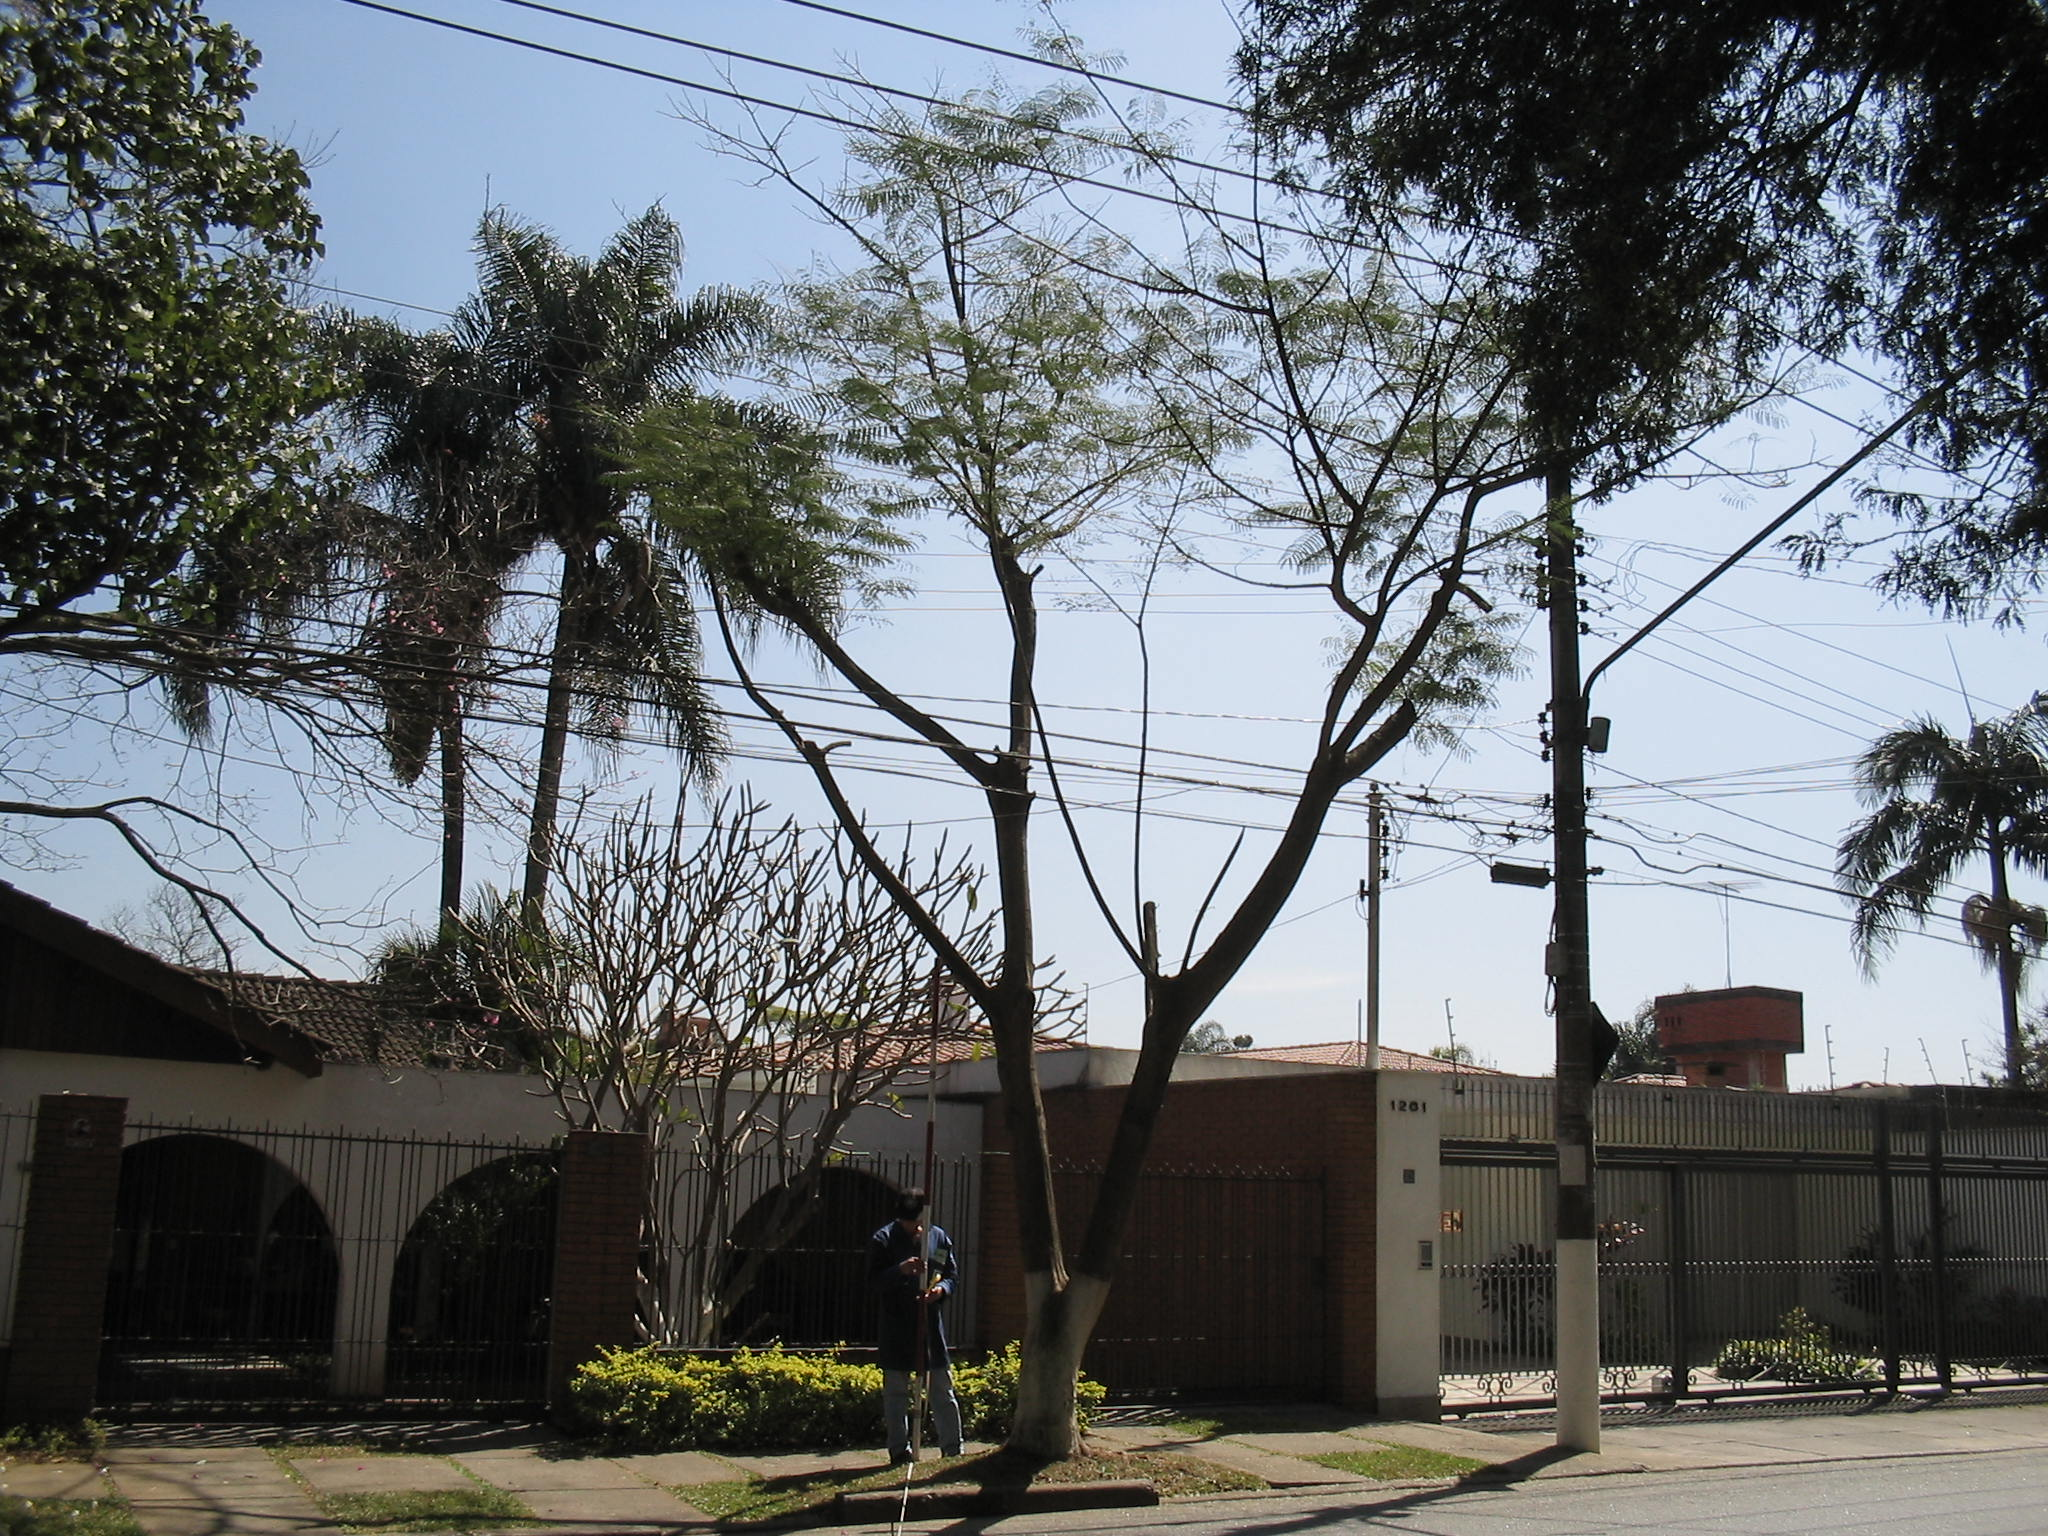crown: (585, 40, 1822, 795)
stem: (977, 1278, 1127, 1454)
stick: (893, 958, 956, 1463)
tree: (582, 40, 1830, 1459)
